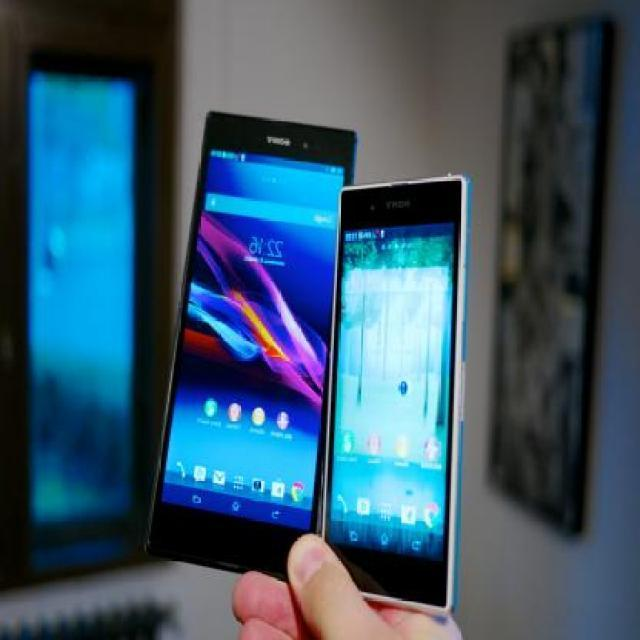phone: (149, 123, 351, 569), (321, 172, 472, 618)
